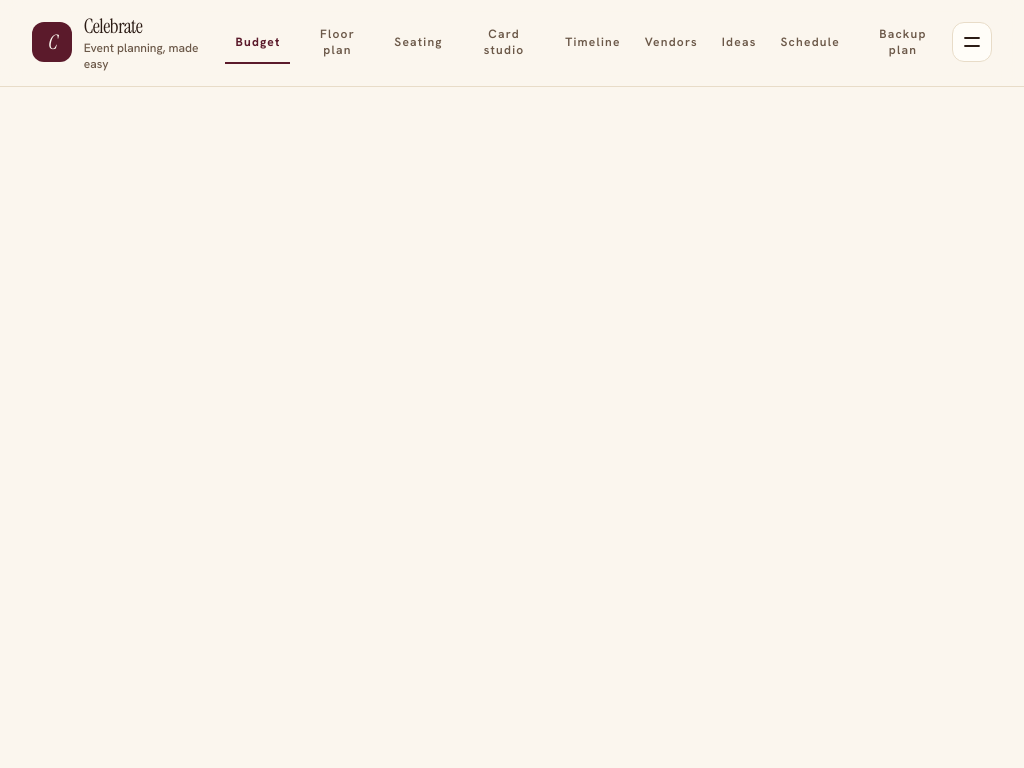
it: Plan Toolbar Component & Active State › lists all 8 plan steps in hamburger overlay when isPlanShowing is true
Click the button named "Open section navigation menu": (972,42) top-left (952, 22), bottom-right (992, 62)
(page scrolled)
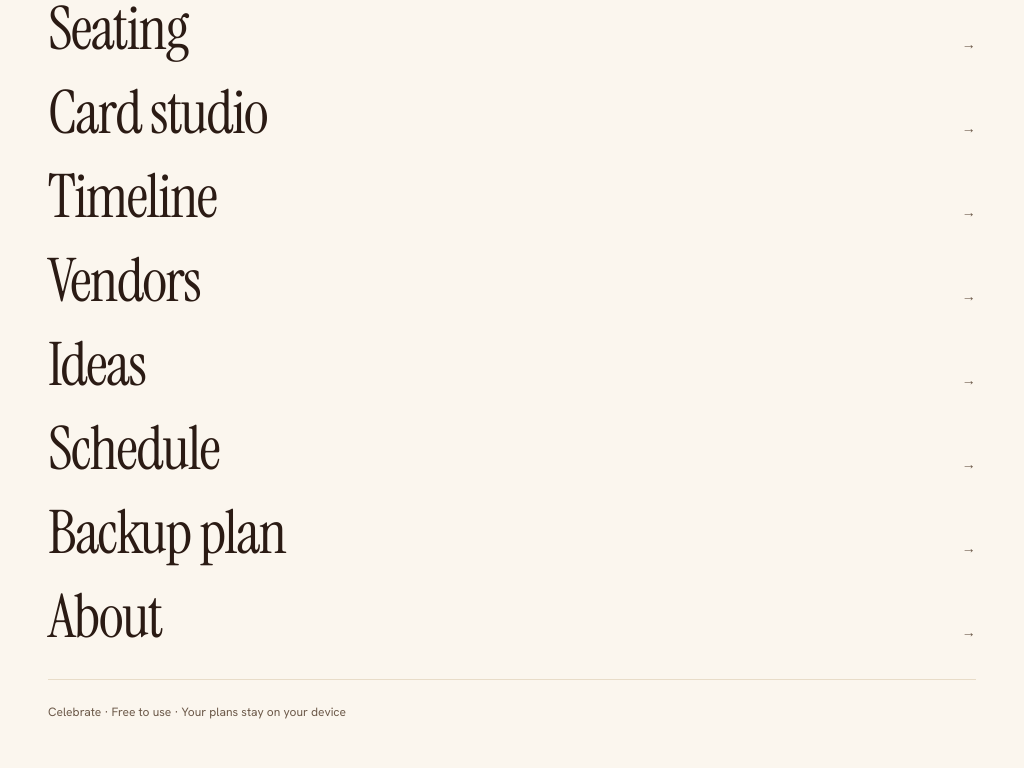
expect the dialog named "Navigation Menu" is shown: met
Close with Escape
Press Escape
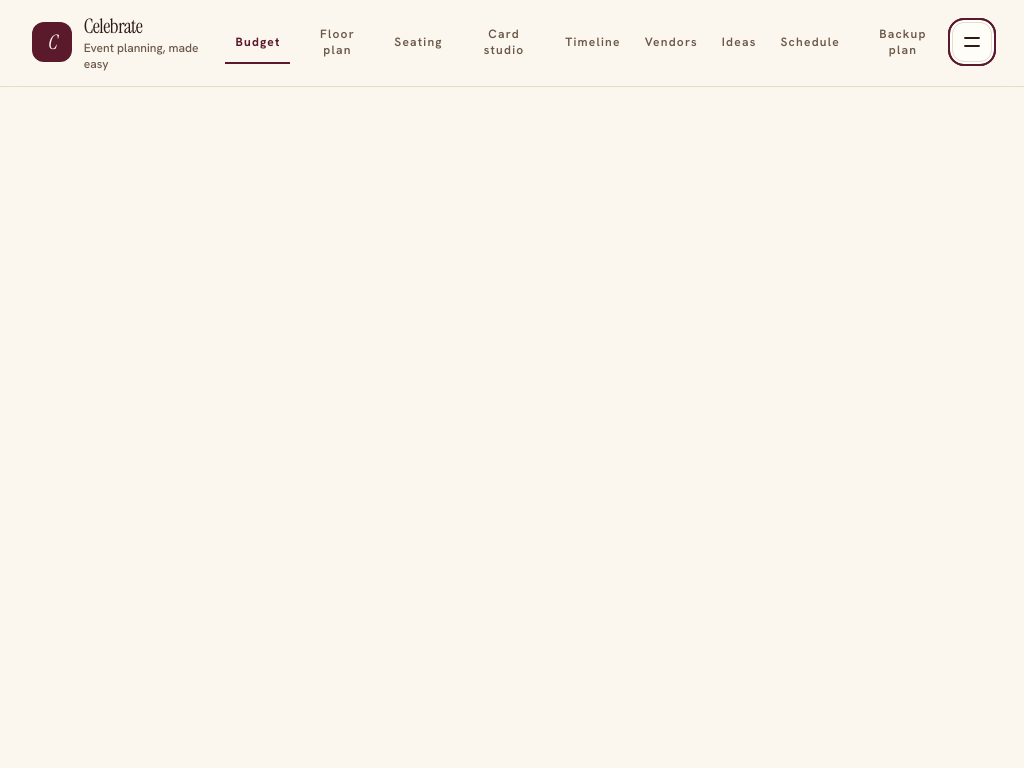
expect the dialog is gone: met
